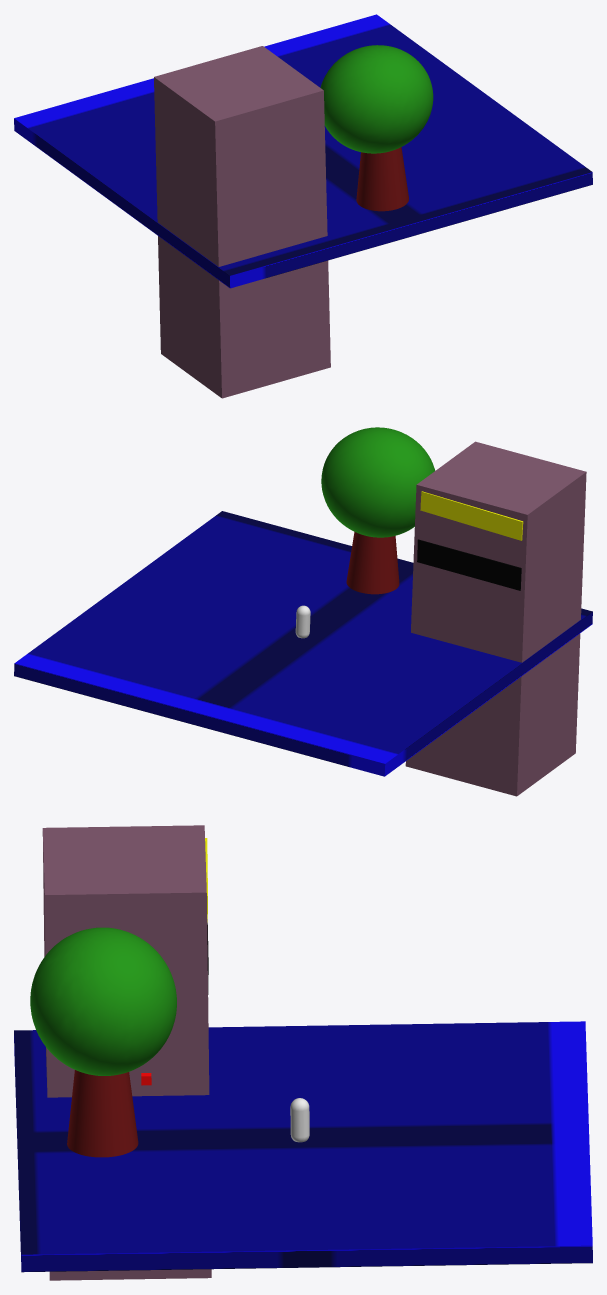
File: Spatial.tscn6755.gltf
The picture shows the model from 3 angles, top to bottom: view 1: azimuth 30°, elevation 25°; view 2: azimuth 150°, elevation 25°; view 3: azimuth 270°, elevation 25°; orthographic projection. The views are drawn at different scales.
Visible parts, largest first — view 1: MeshInstance5, MeshInstance2, MeshInstance4, MeshInstance3; view 2: MeshInstance2, MeshInstance5, MeshInstance4, MeshInstance3, MeshInstance22, MeshInstance6; view 3: MeshInstance2, MeshInstance5, MeshInstance4, MeshInstance3, MeshInstance.
Boxes of the visible parts, <box> form: MeshInstance5: <box>154,46,330,398</box>; MeshInstance2: <box>14,14,592,288</box>; MeshInstance4: <box>320,45,433,153</box>; MeshInstance3: <box>356,147,408,211</box>; MeshInstance2: <box>14,511,592,776</box>; MeshInstance5: <box>405,441,586,796</box>; MeshInstance4: <box>321,427,435,537</box>; MeshInstance3: <box>346,532,399,594</box>; MeshInstance22: <box>417,539,521,590</box>; MeshInstance6: <box>420,491,523,540</box>; MeshInstance2: <box>14,1021,592,1272</box>; MeshInstance5: <box>42,825,211,1280</box>; MeshInstance4: <box>30,927,176,1075</box>; MeshInstance3: <box>67,1070,138,1157</box>; MeshInstance: <box>290,1098,309,1142</box>.
Size of the model in its own units: 57.01 by 42.63 by 56.86.
Materials: 7 (1 with a texture image).
